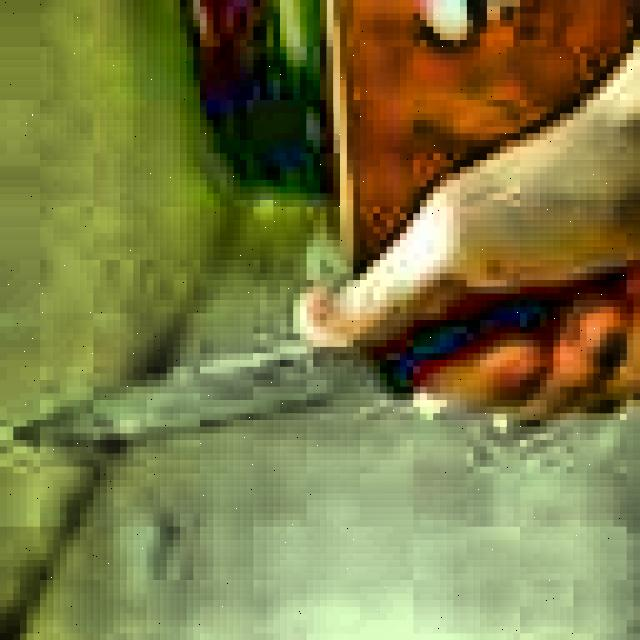knife: (13, 273, 626, 444)
